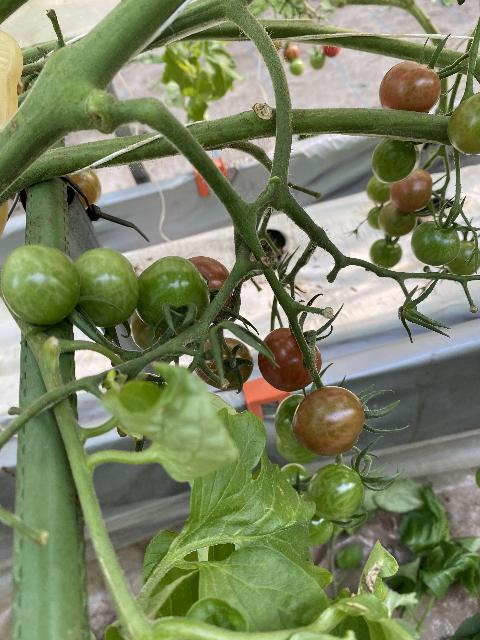l_fully_ripened: (258, 328, 321, 391), (188, 256, 233, 325)
l_green: (5, 244, 82, 326), (134, 256, 211, 331), (74, 247, 140, 328), (306, 464, 365, 520), (410, 220, 461, 266), (371, 138, 420, 182), (276, 394, 308, 449), (275, 437, 321, 465), (447, 240, 480, 276), (370, 238, 402, 267), (282, 464, 311, 496), (308, 515, 335, 547), (367, 176, 393, 204)
l_half_ripened: (291, 385, 365, 457), (129, 309, 198, 358), (192, 336, 254, 390), (379, 62, 441, 113), (448, 92, 480, 155), (389, 168, 433, 212), (66, 170, 102, 208), (378, 202, 417, 236)
